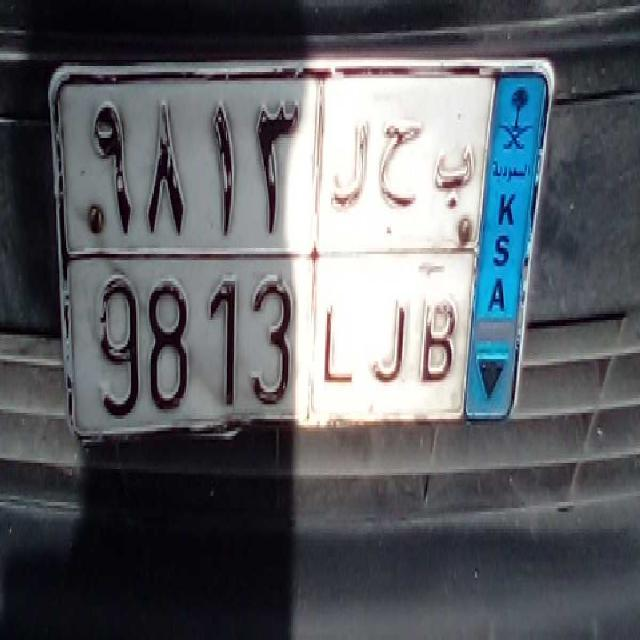license_plate: (69, 238, 465, 434)
